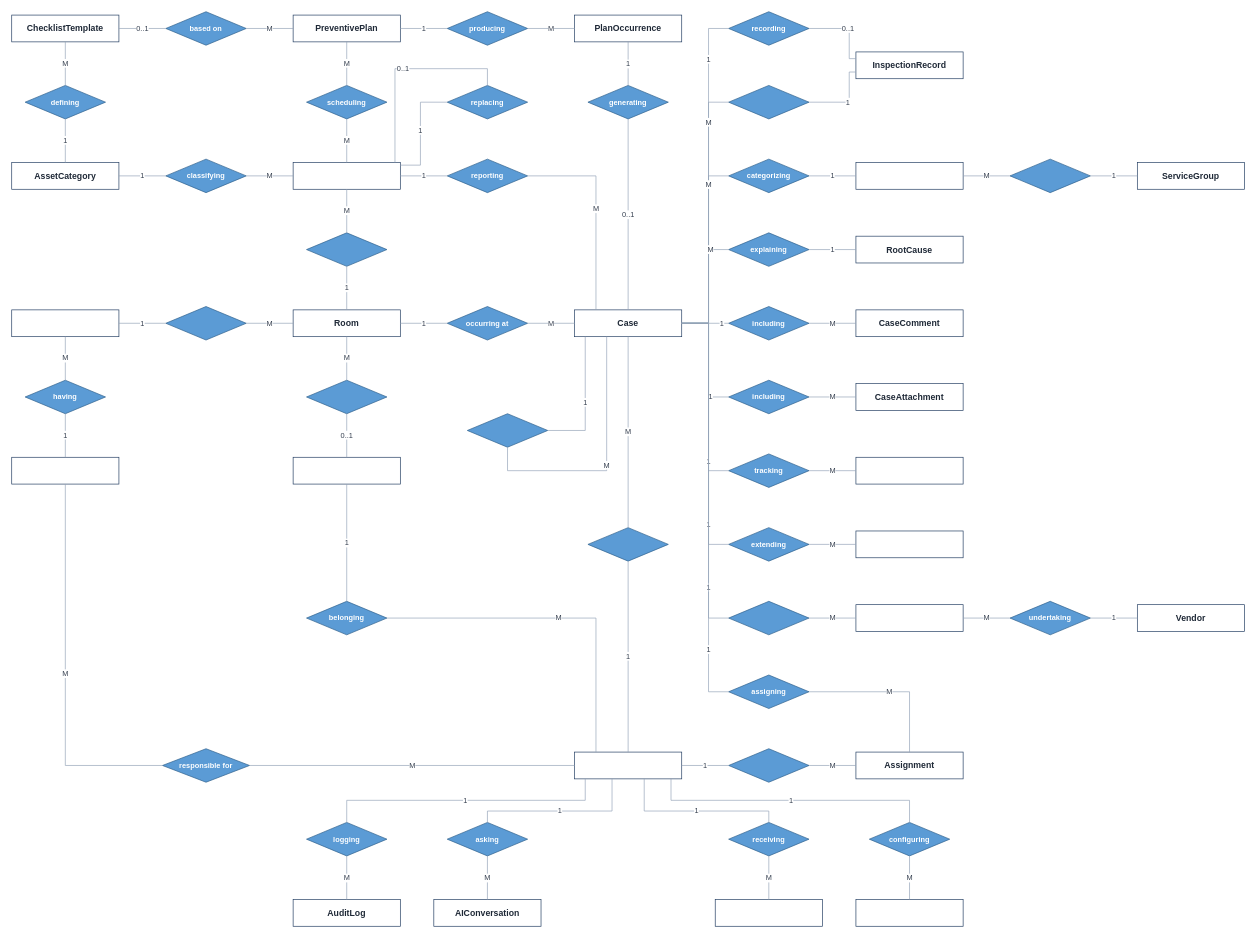
The diagram is 1256 pixels wide and 938 high, and some of its shapes have lost their labels. Each missing label, with the centre of its shape:
"Asset" belongs at point (346, 175).
"Building" belongs at point (65, 470).
"CaseDueChange" belongs at point (909, 544).
"CaseStatusHistory" belongs at point (909, 470).
"consisting" belongs at point (205, 323).
"containing" belongs at point (346, 249).
"creating" belongs at point (768, 102).
"Floor" belongs at point (65, 323).
"grouping" belongs at point (1049, 175).
"handing over" belongs at point (768, 618).
"leasing" belongs at point (346, 397).
"merging" belongs at point (507, 430).
"Notification" belongs at point (768, 912).
"performing" belongs at point (768, 765).
"requesting" belongs at point (627, 544).
"ServiceType" belongs at point (909, 175).
"SystemSetting" belongs at point (909, 912).
"Unit" belongs at point (346, 470).
"User" belongs at point (628, 765).
"VendorHandoff" belongs at point (909, 617).
